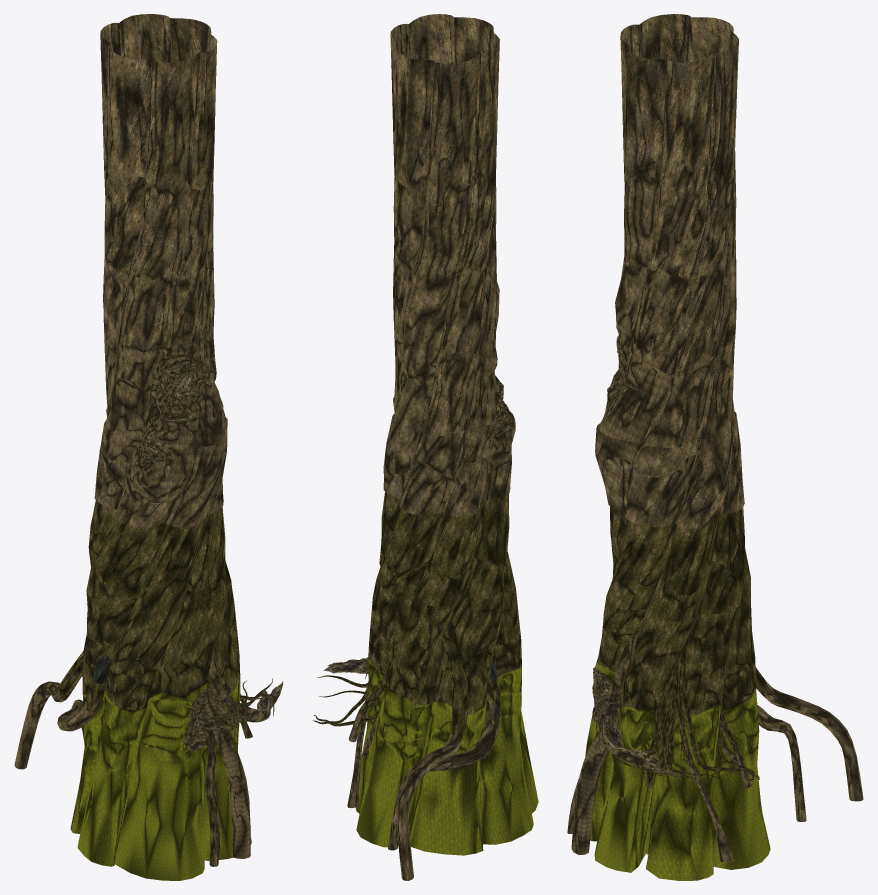
The picture shows the model from 3 angles, left to right: view 1: azimuth 30°, elevation 25°; view 2: azimuth 150°, elevation 25°; view 3: azimuth 270°, elevation 25°; orthographic projection. The views are drawn at different scales.
Visible parts, largest first — view 1: mesh2, mesh9, mesh7, mesh0, mesh5; view 2: mesh2, mesh9, mesh7, mesh0; view 3: mesh2, mesh9, mesh7, mesh0.
Boxes of the visible parts, box(x1,y1,x2,y2) form: mesh2: box(94, 14, 227, 527); mesh9: box(57, 500, 274, 738); mesh7: box(70, 679, 251, 880); mesh0: box(14, 359, 282, 866); mesh5: box(142, 364, 207, 744); mesh2: box(383, 14, 515, 516); mesh9: box(312, 492, 521, 740); mesh7: box(355, 657, 538, 855); mesh0: box(345, 384, 514, 880); mesh2: box(595, 14, 744, 528); mesh9: box(597, 506, 766, 788); mesh7: box(585, 662, 770, 880); mesh0: box(567, 336, 863, 862).
Bounding box in the file's own units: 109 × 412 × 137.
